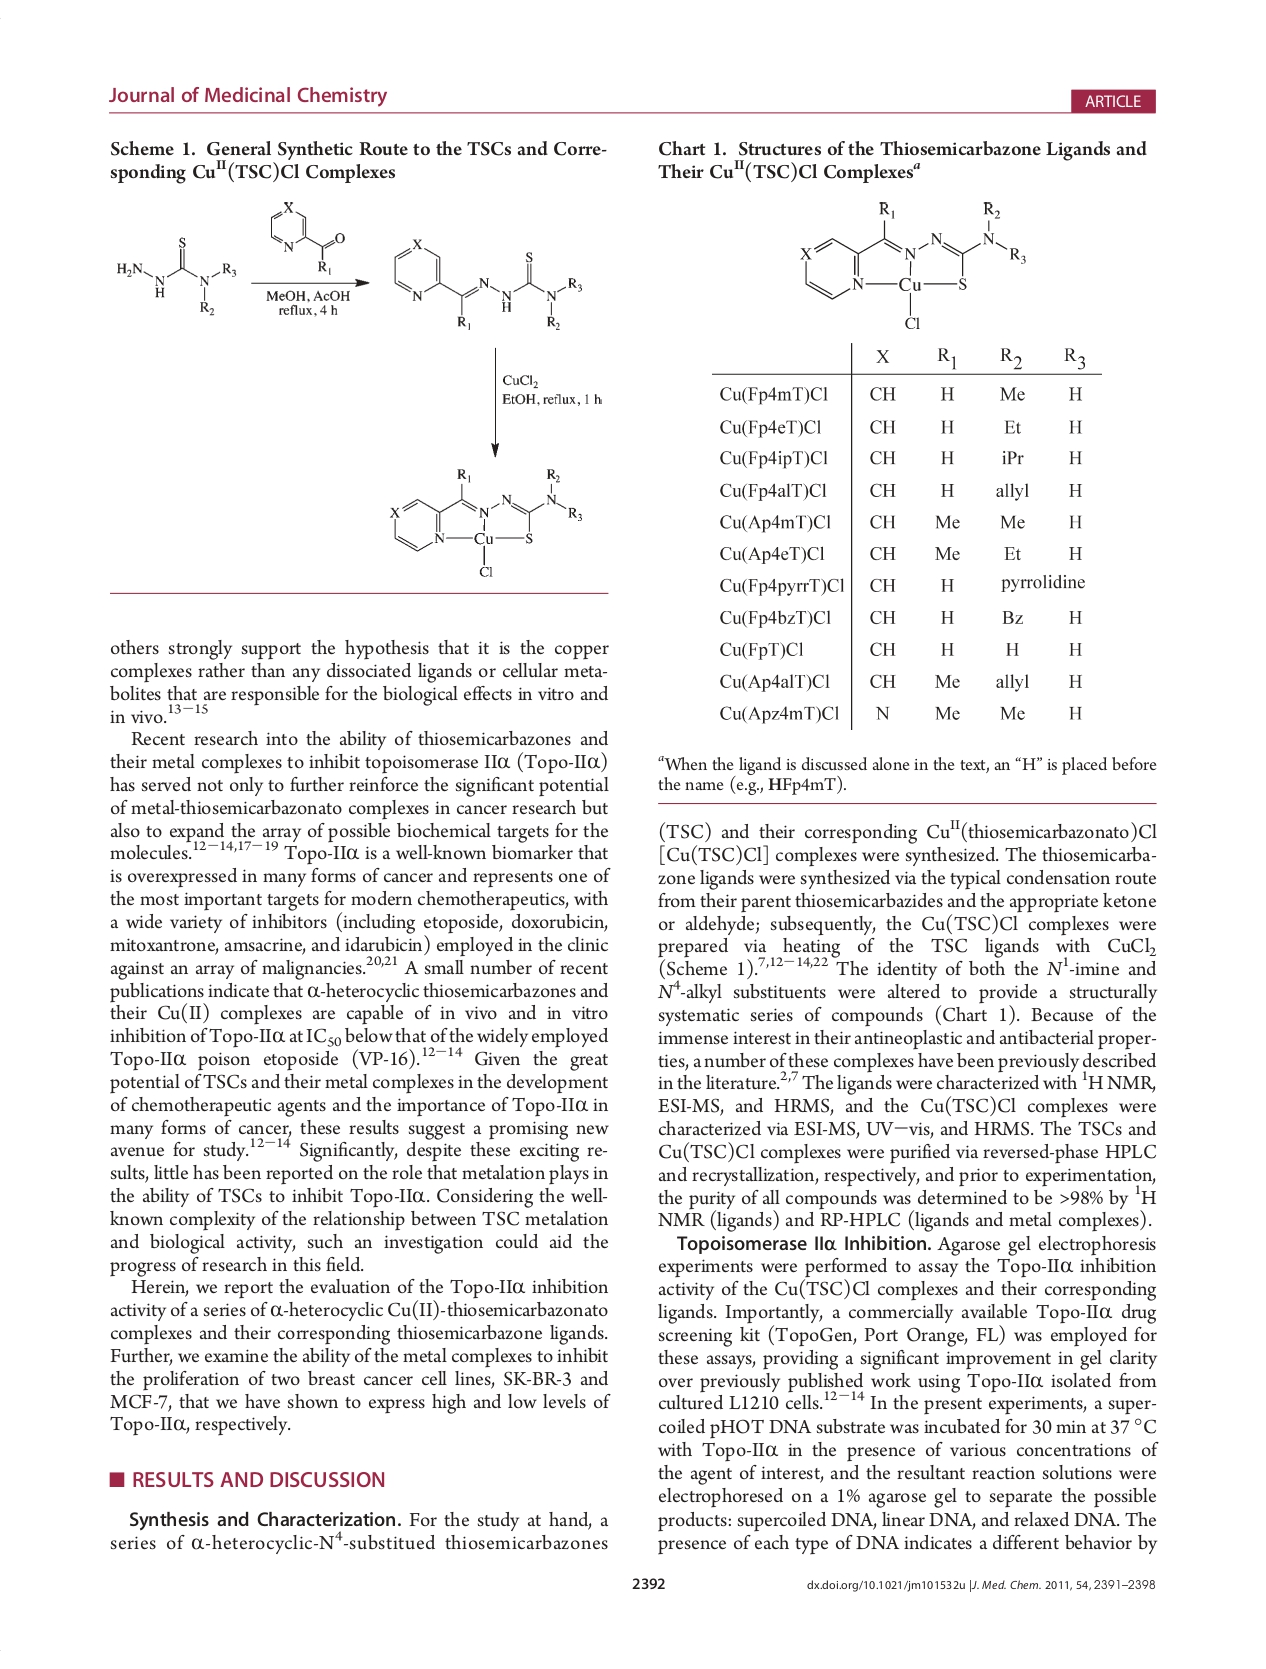exist_molecular: (797, 195, 1032, 335), (386, 465, 590, 580), (384, 230, 589, 338), (112, 231, 245, 318), (265, 193, 351, 277)
